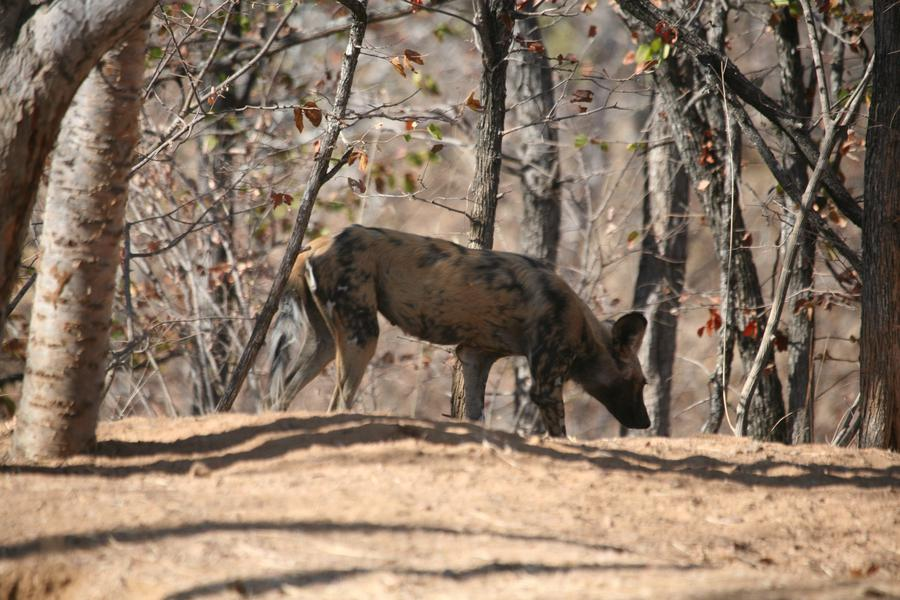wilddog: (303, 224, 643, 420)
